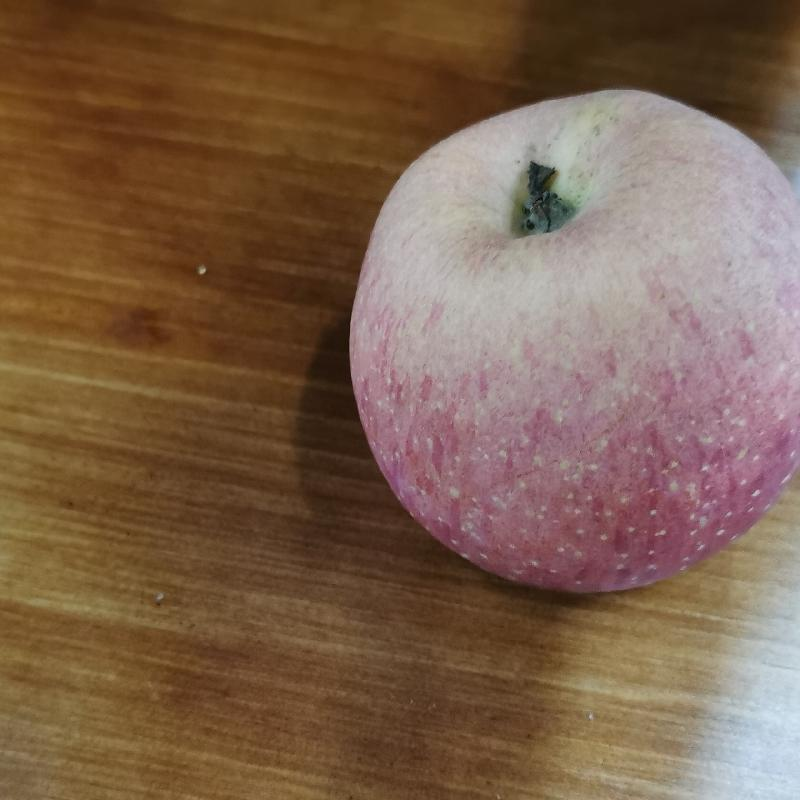apples: (344, 91, 800, 598)
